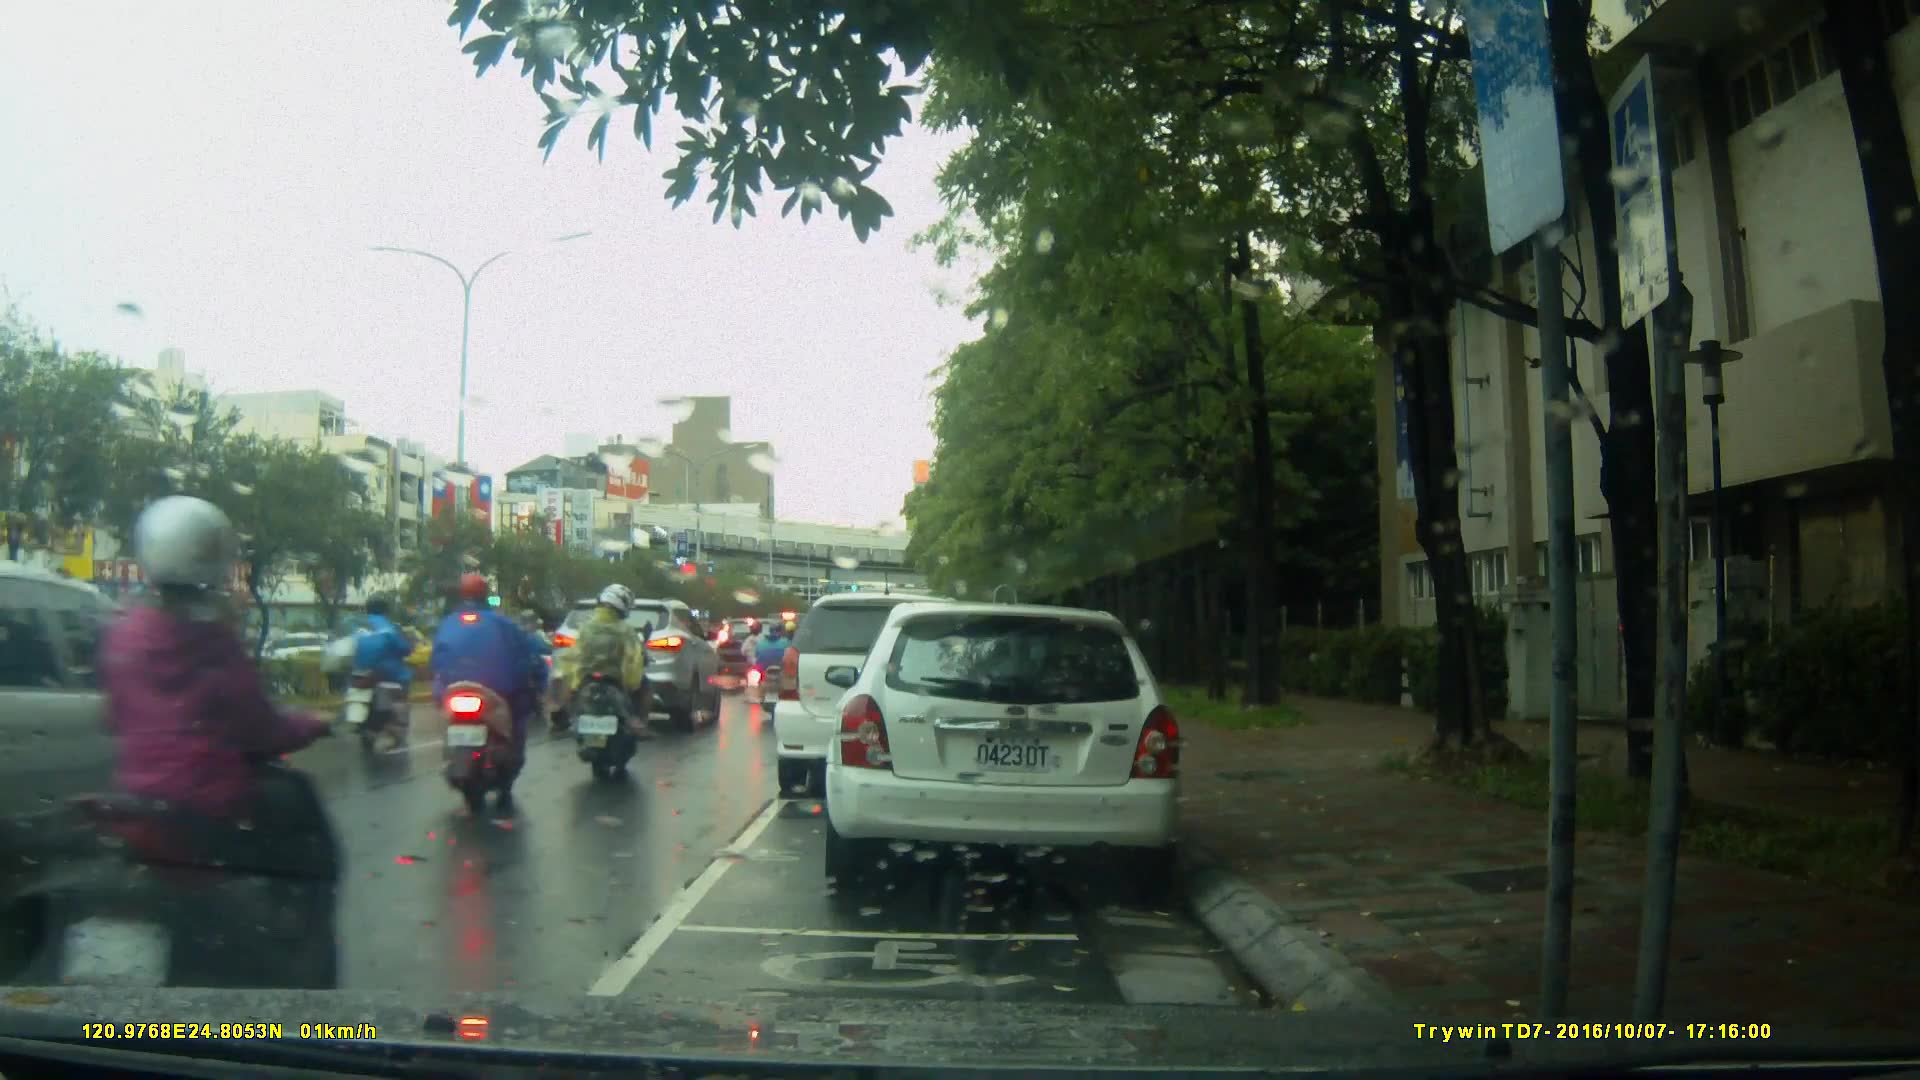rider: (6, 488, 338, 1076), (436, 569, 535, 811), (559, 585, 652, 788), (338, 594, 416, 758), (493, 607, 565, 706), (748, 617, 801, 712), (743, 620, 779, 706)
vehicle: (822, 604, 1188, 883), (774, 595, 995, 802), (545, 598, 722, 734)
